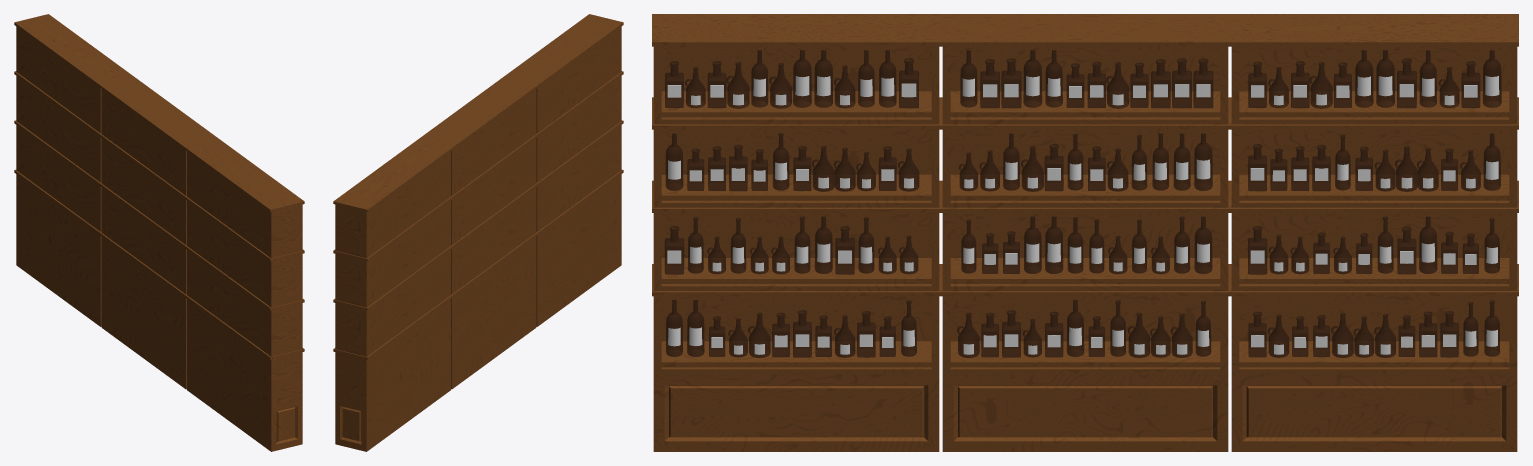
Rendered from RepisaBotellas.fbx.
3 renders of one model, left to right at view 1: azimuth 30°, elevation 25°; view 2: azimuth 150°, elevation 25°; view 3: azimuth 270°, elevation 25°, orthographic. The views are drawn at different scales.
Parts seen in each view (by area): view 1: Library; view 2: Library; view 3: Library, Wine.047.
Part boxes in pixels (left/top/right/bottom): Library: left=14, top=14, right=304, bottom=451; Library: left=333, top=14, right=623, bottom=451; Library: left=652, top=14, right=1518, bottom=451; Wine.047: left=664, top=50, right=1501, bottom=357.
Bounding box in the file's own units: 69.23 × 468 × 894.
